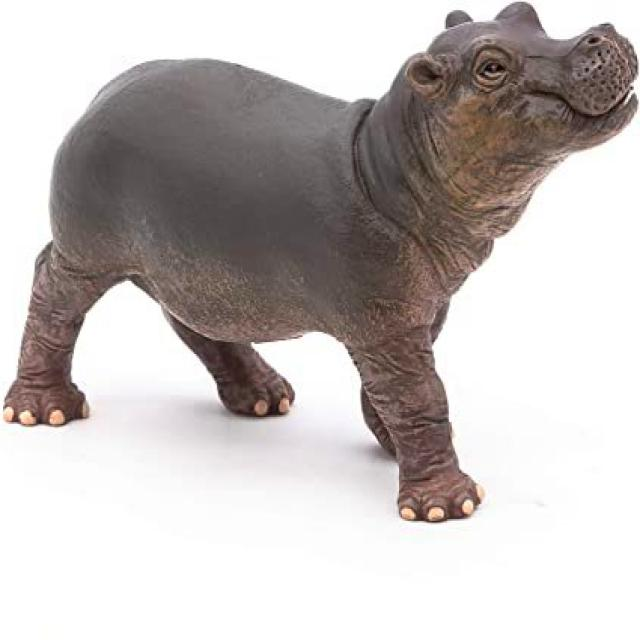hippopotamus: (6, 3, 638, 521)
